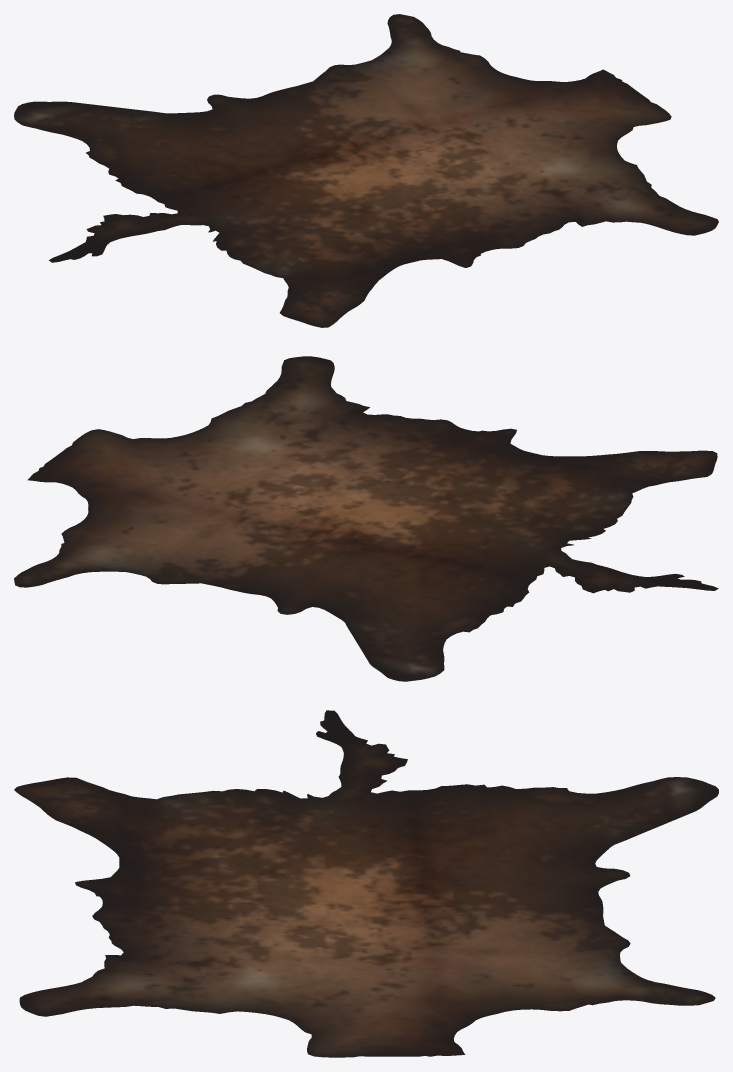
Rendered from SM_AnimalHide7.fbx.
3 renders of one model, top to bottom at view 1: azimuth 30°, elevation 25°; view 2: azimuth 150°, elevation 25°; view 3: azimuth 270°, elevation 25°, orthographic. The views are drawn at different scales.
Visible parts, largest first — view 1: SM_AnimalHide7_LOD0; view 2: SM_AnimalHide7_LOD0; view 3: SM_AnimalHide7_LOD0.
Part boxes in pixels (<box>): SM_AnimalHide7_LOD0: <box>14,14,718,327</box>; SM_AnimalHide7_LOD0: <box>14,356,718,681</box>; SM_AnimalHide7_LOD0: <box>14,710,718,1057</box>.
Bounding box in the file's own units: 189 × 162 × 2.38e-06.
1 material, 1 textured.
